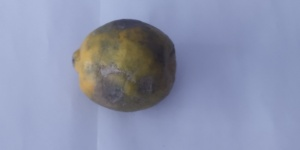BAD: (72, 19, 174, 117)
